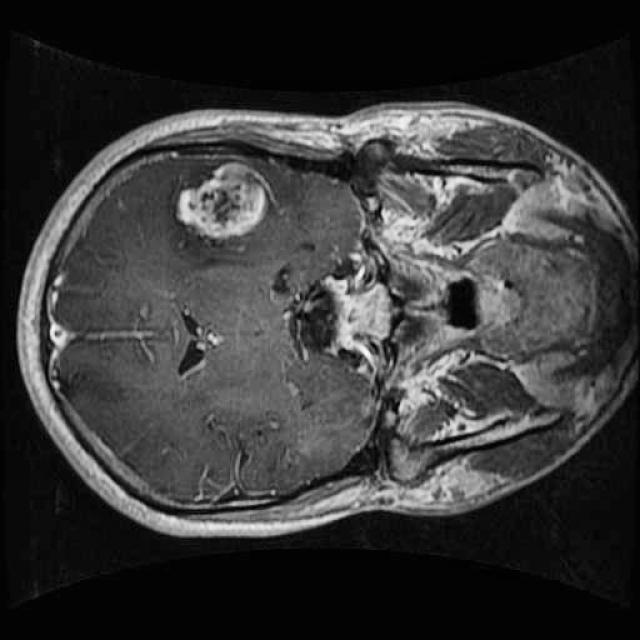Tumor: (163, 143, 281, 253)
